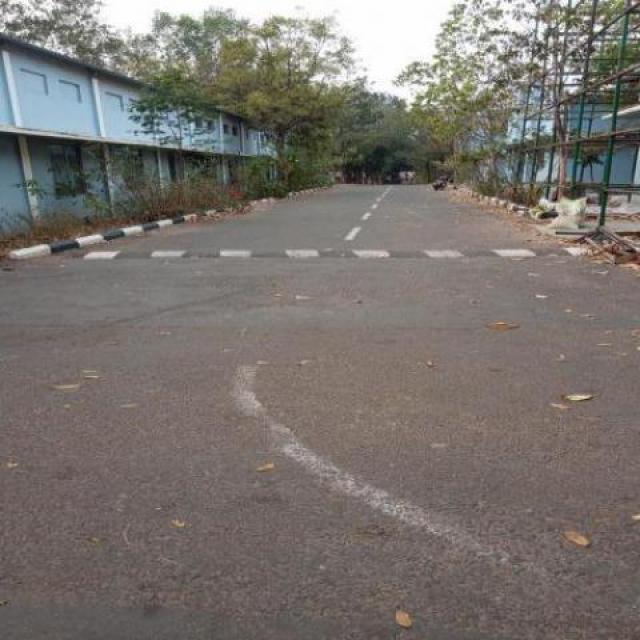Speed Bump: (62, 243, 621, 264)
